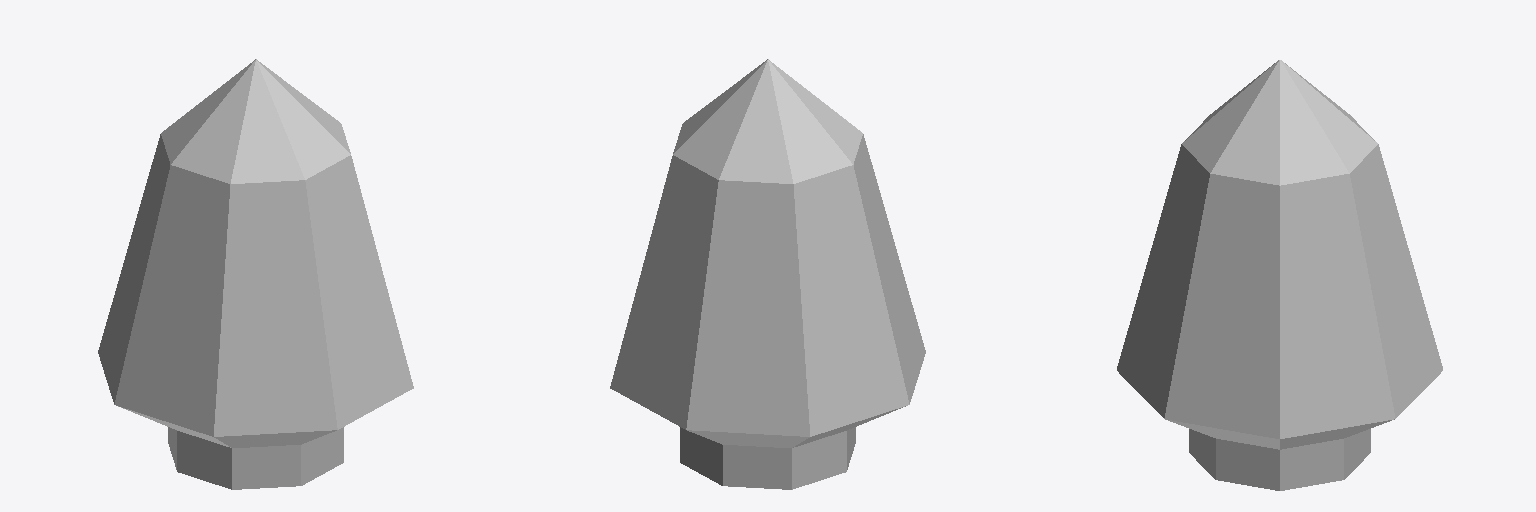
The model's file is whip_tip.obj.
3 renders of one model, left to right at view 1: azimuth 30°, elevation 25°; view 2: azimuth 150°, elevation 25°; view 3: azimuth 270°, elevation 25°, orthographic.
Visible parts, largest first — view 1: whip_tip; view 2: whip_tip; view 3: whip_tip.
Boxes of the visible parts, x1=… form: whip_tip: x1=98, y1=59, x2=413, y2=489; whip_tip: x1=610, y1=59, x2=925, y2=489; whip_tip: x1=1117, y1=60, x2=1442, y2=490.
Size of the model in its own units: 15.81 by 20.98 by 15.81.